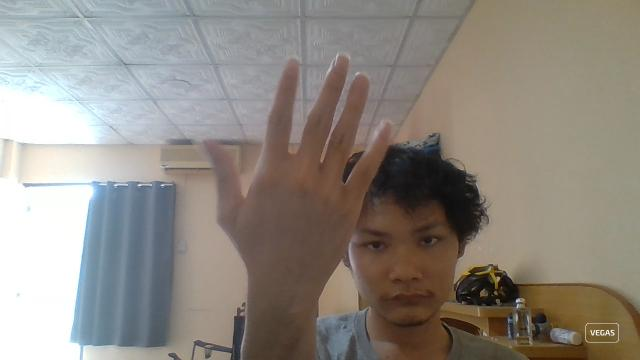backword: (202, 51, 392, 309)
